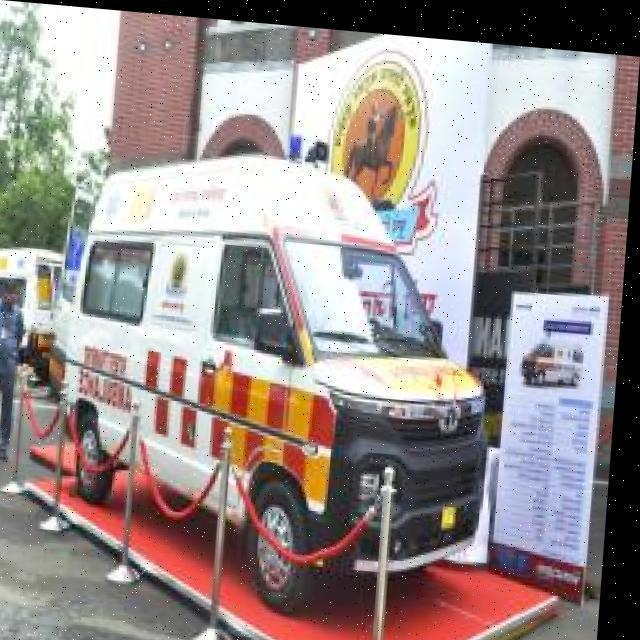Ambulance: (35, 123, 512, 624), (0, 356, 616, 640), (0, 238, 73, 400), (0, 275, 42, 471), (518, 326, 589, 381)
